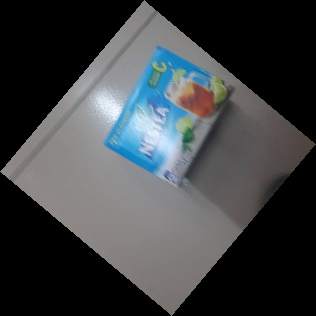Nestea: (102, 44, 237, 189)
